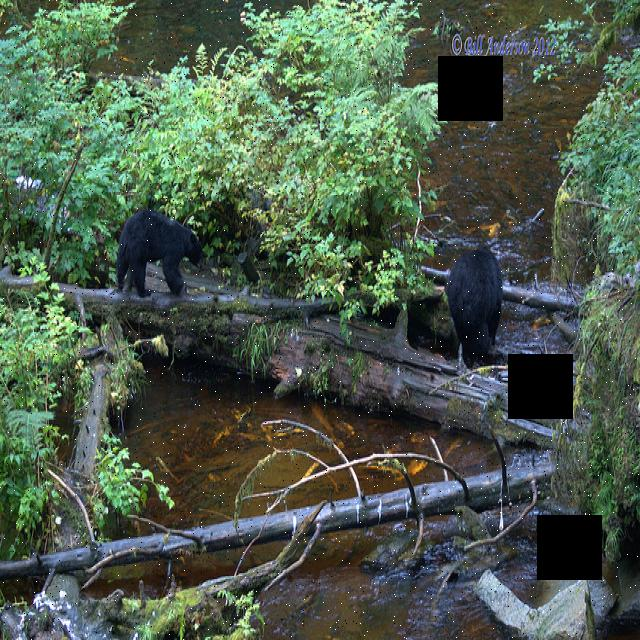Bear: (110, 203, 209, 304), (446, 240, 504, 367)
